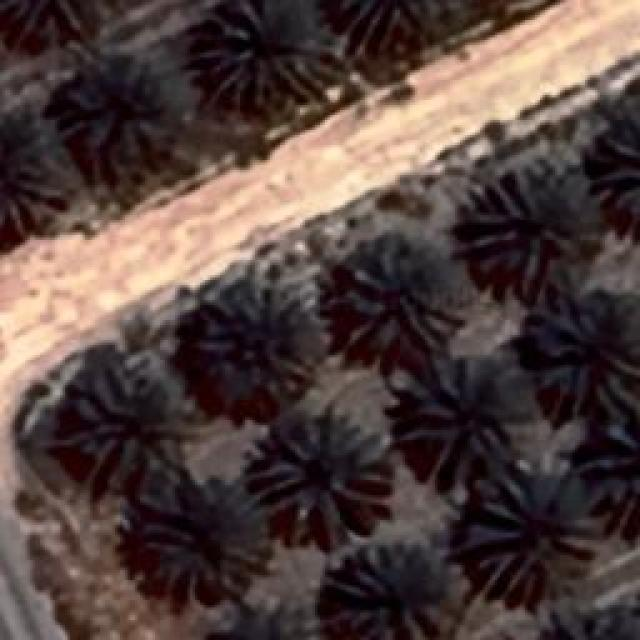PalmTree: (462, 460, 600, 600), (58, 53, 198, 181), (248, 412, 390, 538), (460, 172, 600, 290), (336, 235, 464, 355), (142, 480, 270, 598), (195, 280, 323, 398), (62, 365, 192, 480), (195, 0, 330, 110), (395, 358, 523, 472), (530, 298, 638, 412), (332, 544, 440, 638), (0, 110, 68, 250), (585, 391, 640, 541), (346, 0, 472, 55), (0, 0, 111, 51), (512, 596, 640, 640), (205, 596, 333, 640), (600, 102, 640, 238)
